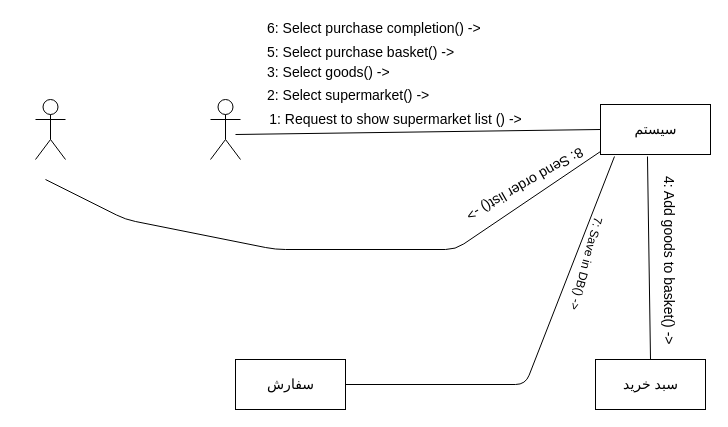
Image size: 728x427. Some labels were removed from this diagram. The centre of each missing label's shape, as x and y in pixels:
customer: (225,129)
Salesperson: (50,129)
